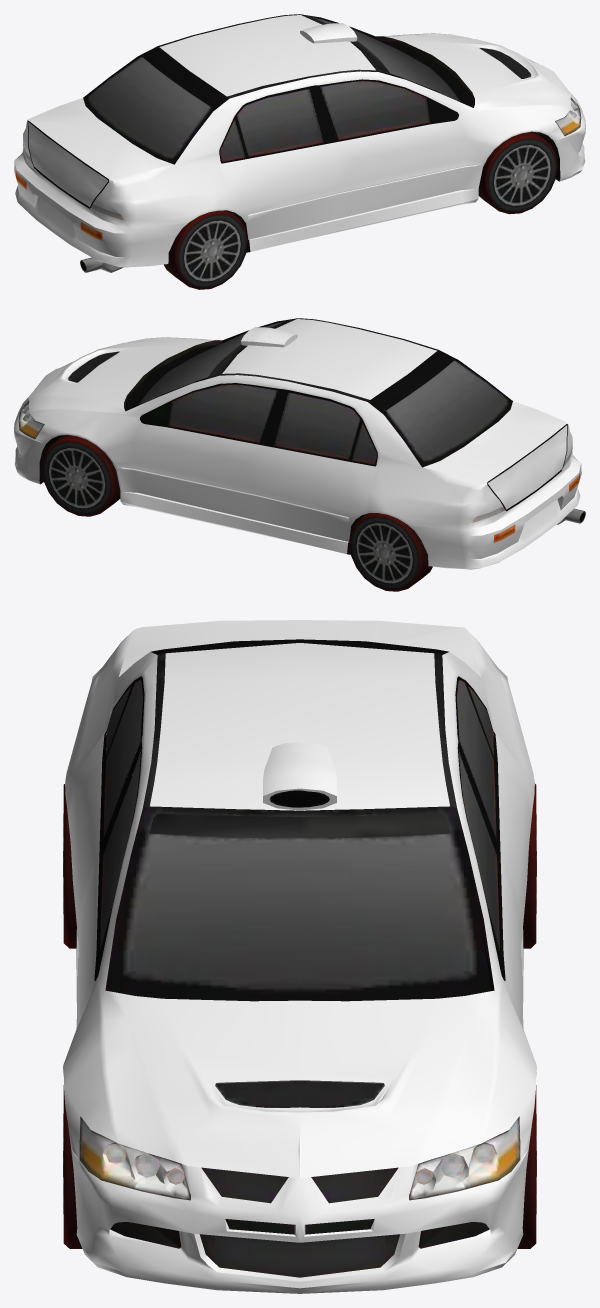
Rendered from xiaokeche.glb.
The picture shows the model from 3 angles, top to bottom: view 1: azimuth 30°, elevation 25°; view 2: azimuth 150°, elevation 25°; view 3: azimuth 270°, elevation 25°; orthographic projection. The views are drawn at different scales.
Visible parts, largest first — view 1: 小客车; view 2: 小客车; view 3: 小客车.
Part boxes in pixels (x1,y1,x2,y2): 小客车: (14, 14, 585, 289); 小客车: (14, 318, 585, 591); 小客车: (63, 620, 536, 1293).
Bounding box in the file's own units: 144074 × 46805 × 57503.
3 materials, 3 textured.
